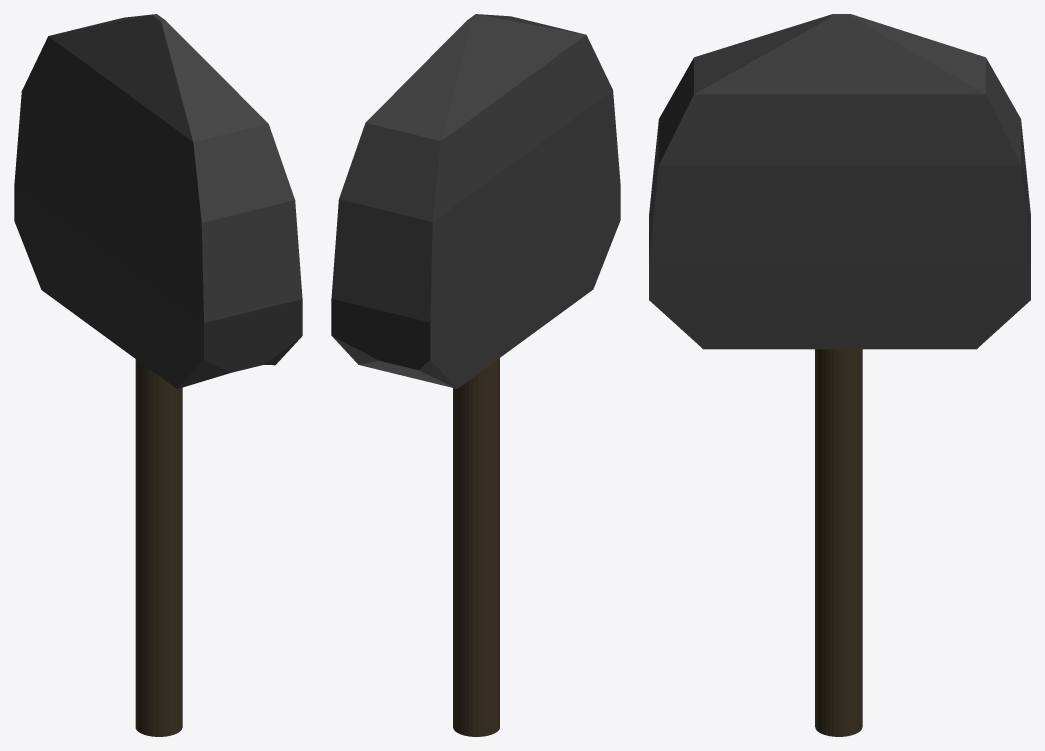
The model's file is hammer.fbx.
3 views of the same model, side by side, from view 1: azimuth 30°, elevation 25°; view 2: azimuth 150°, elevation 25°; view 3: azimuth 270°, elevation 25° (orthographic).
Parts seen in each view (by area): view 1: Cube, Cylinder; view 2: Cube, Cylinder; view 3: Cube, Cylinder.
Boxes of the visible parts, x1,y1,x2,y2 form: Cube: [14, 14, 302, 388]; Cylinder: [135, 359, 182, 736]; Cube: [331, 14, 620, 388]; Cylinder: [453, 358, 499, 736]; Cube: [649, 14, 1030, 349]; Cylinder: [815, 349, 862, 736].
Bounding box in the file's own units: 48.31 × 332 × 161.
